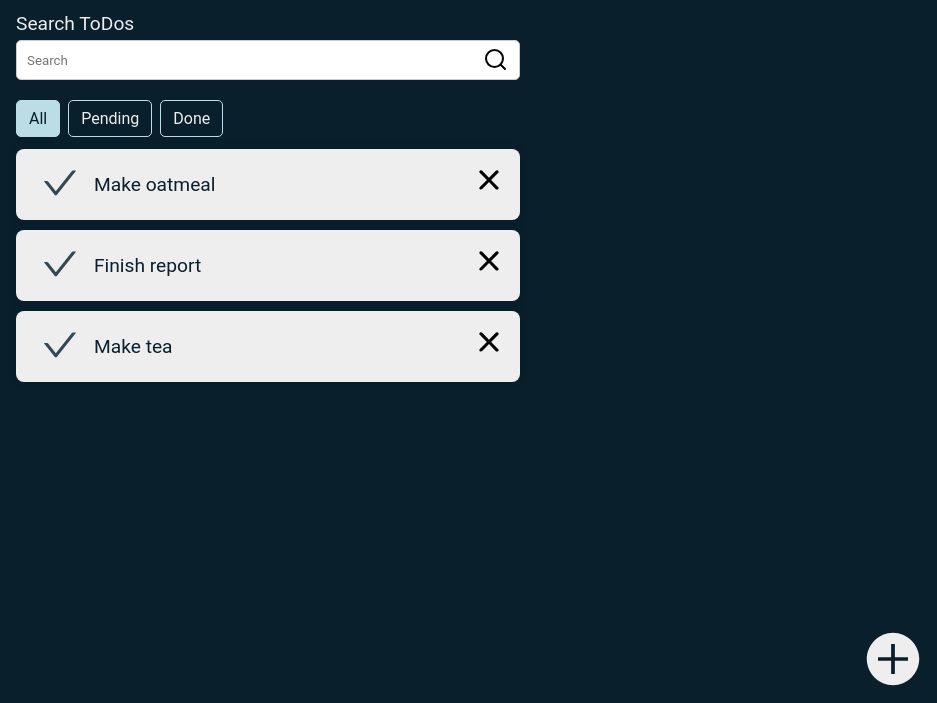
Test: App › shows status-specific feedback when the Done tab has no tasks
Click the tab "Done" at (192, 118), box [160,100,223,137]
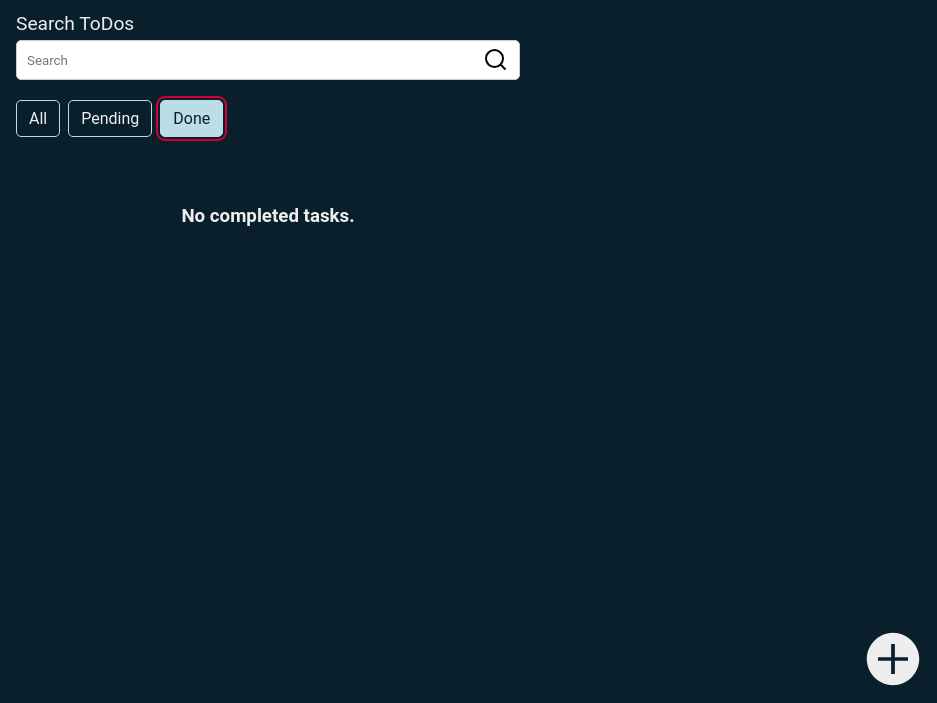
expect the message reads "No completed tasks.": met, box [181,205,355,227]
